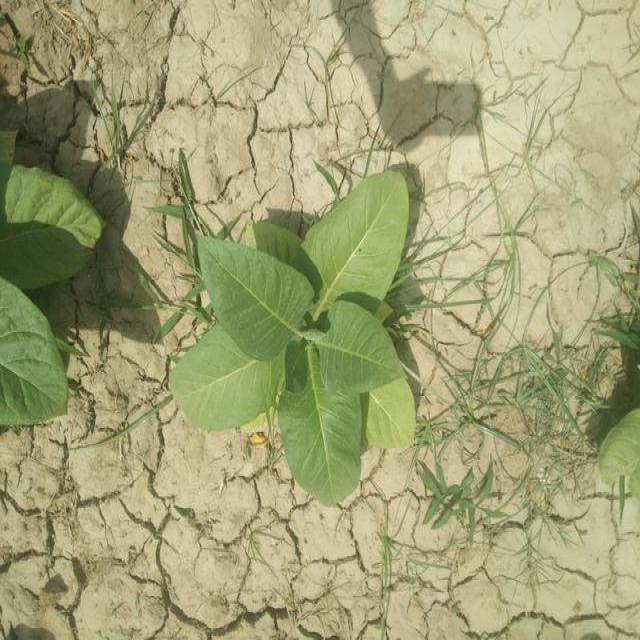crop: (170, 203, 408, 507), (1, 124, 91, 425)
